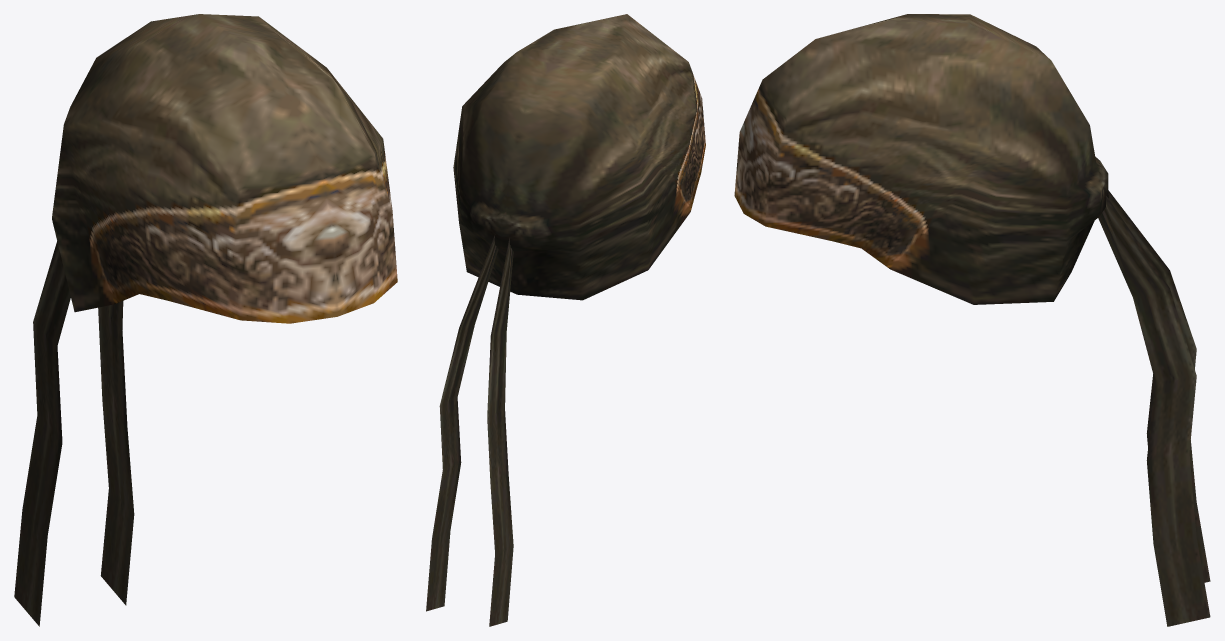
3 views of the same model, side by side, from view 1: azimuth 30°, elevation 25°; view 2: azimuth 150°, elevation 25°; view 3: azimuth 270°, elevation 25° (orthographic). The views are drawn at different scales.
Visible parts, largest first — view 1: Light_01_ha; view 2: Light_01_ha; view 3: Light_01_ha.
Boxes of the visible parts, <box> form: Light_01_ha: <box>14,14,397,626</box>; Light_01_ha: <box>426,14,705,626</box>; Light_01_ha: <box>734,14,1210,626</box>.
Bounding box in the file's own units: 0.1421 × 0.3471 × 0.2549.
Materials: 1 (1 with a texture image).
